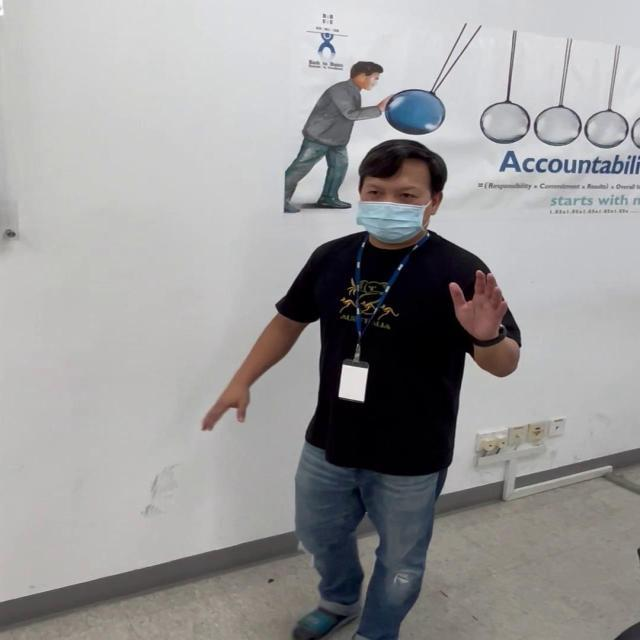bare_hand: (450, 265, 508, 345), (198, 375, 256, 436)
